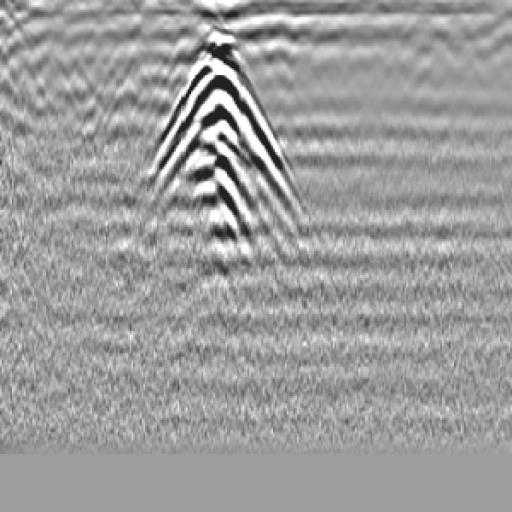metalic: (144, 25, 307, 267)
